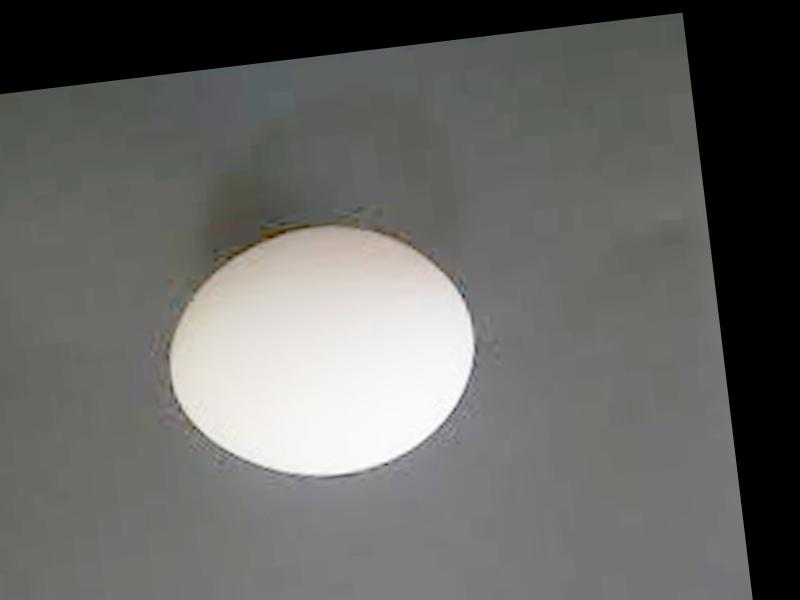Eggs: (153, 214, 480, 492)
